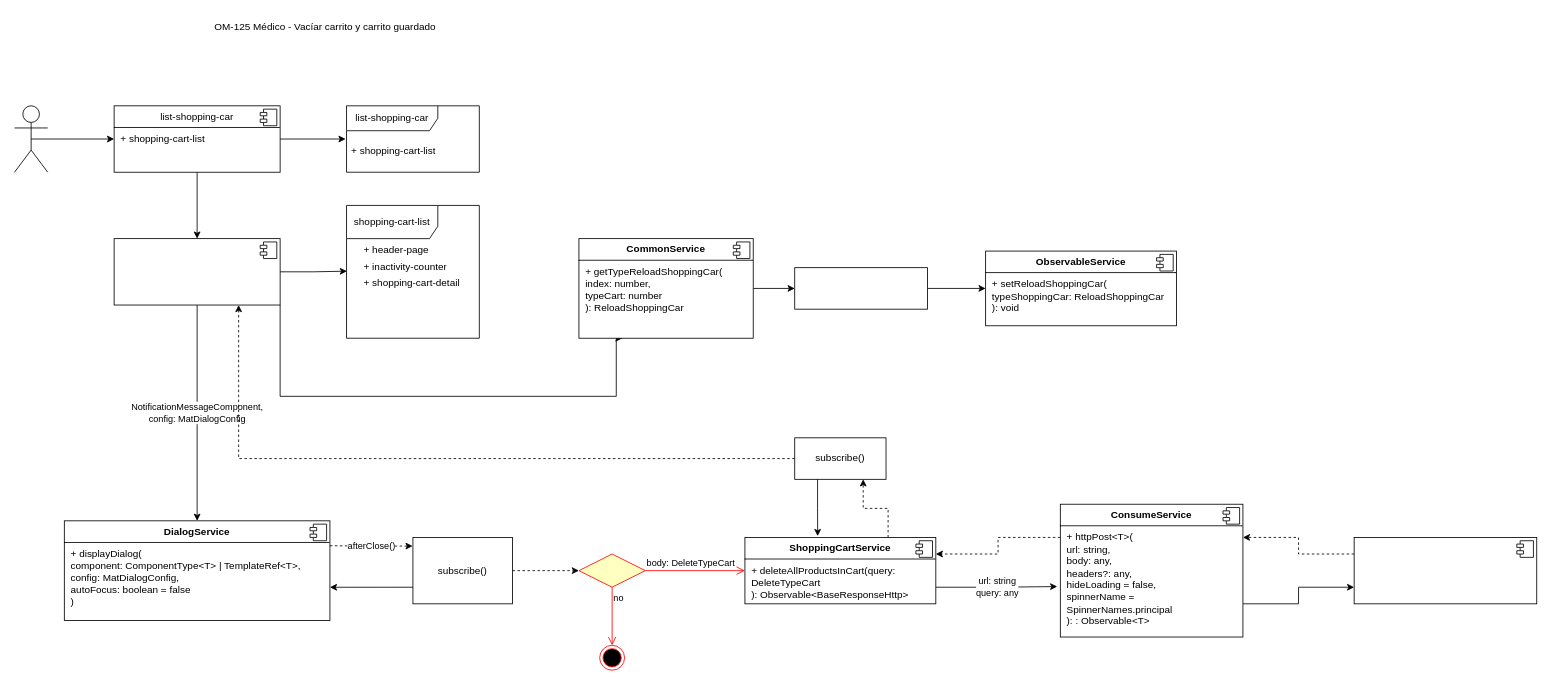
This 1551x685 diagram has some shape labels left out. Each missing label, with the centre of its shape:
Actor: pixel 31 138
data: ReloadShoppingCar: pixel 861 288
res: pixel 611 570
shopping-cart-list + deleteAll(tab: number): void: pixel 196 271
shoppingcart service + DeleteProductFromShoppingCart(): pixel 1445 570
